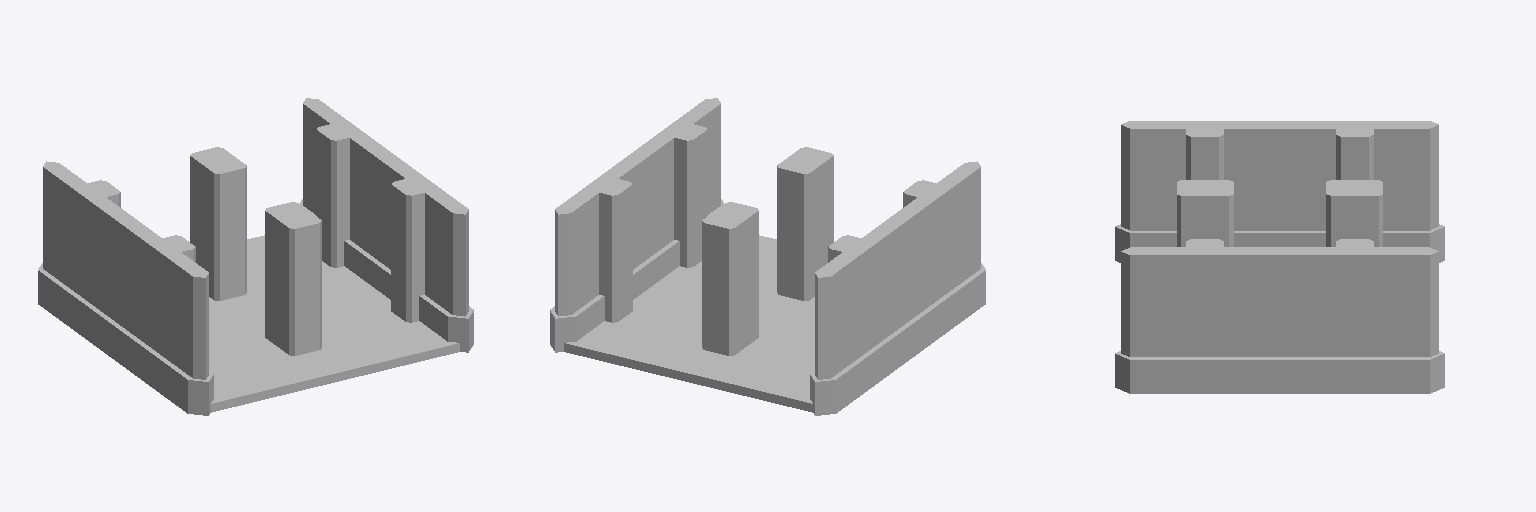
File: hallway_02.obj
3 views of the same model, side by side, from view 1: azimuth 30°, elevation 25°; view 2: azimuth 150°, elevation 25°; view 3: azimuth 270°, elevation 25° (orthographic).
Parts seen in each view (by area): view 1: floor_01_11, wall_02_13, wall_02_15, wall_02_12, wall_02_14, pillar_01_17, pillar_01_16; view 2: floor_01_11, wall_02_12, wall_02_14, wall_02_13, wall_02_15, pillar_01_16, pillar_01_17; view 3: wall_02_14, wall_02_15, wall_02_12, wall_02_13, pillar_01_16, pillar_01_17.
Boxes of the visible parts, x1=… form: floor_01_11: x1=209, y1=235, x2=459, y2=412; wall_02_13: x1=113, y1=217, x2=213, y2=415; wall_02_15: x1=373, y1=153, x2=473, y2=352; wall_02_12: x1=38, y1=161, x2=133, y2=358; wall_02_14: x1=300, y1=98, x2=393, y2=286; pillar_01_17: x1=265, y1=202, x2=321, y2=355; pillar_01_16: x1=190, y1=147, x2=246, y2=300; floor_01_11: x1=564, y1=235, x2=814, y2=412; wall_02_12: x1=810, y1=217, x2=910, y2=415; wall_02_14: x1=550, y1=153, x2=650, y2=352; wall_02_13: x1=890, y1=161, x2=985, y2=358; wall_02_15: x1=631, y1=98, x2=723, y2=286; pillar_01_16: x1=702, y1=202, x2=758, y2=355; pillar_01_17: x1=777, y1=147, x2=833, y2=300; wall_02_14: x1=1271, y1=239, x2=1444, y2=393; wall_02_15: x1=1115, y1=239, x2=1286, y2=393; wall_02_12: x1=1271, y1=121, x2=1444, y2=262; wall_02_13: x1=1115, y1=121, x2=1286, y2=262; pillar_01_16: x1=1326, y1=180, x2=1382, y2=246; pillar_01_17: x1=1177, y1=180, x2=1233, y2=246.
Bounding box in the file's own units: 2.21 × 1 × 2.21.